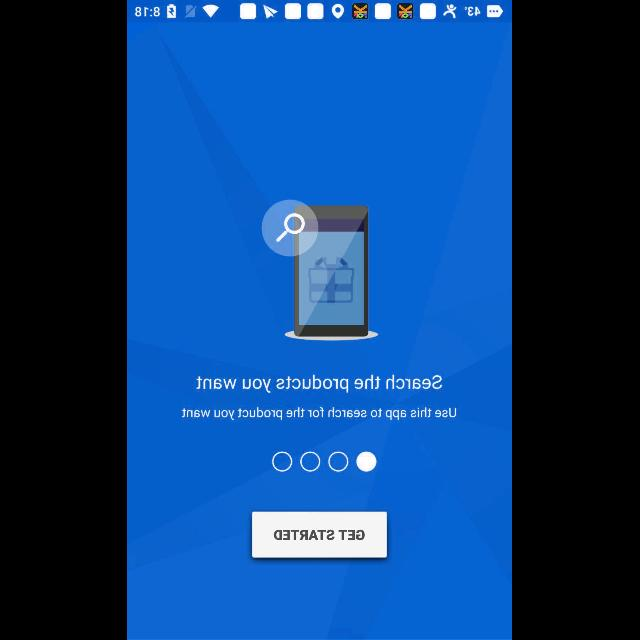image: (262, 200, 380, 340)
pageindicator: (272, 452, 378, 472)
text: (197, 374, 443, 394), (182, 408, 458, 420)
textbutton: (252, 512, 388, 558)
uppertaskbar: (128, 1, 512, 23)
